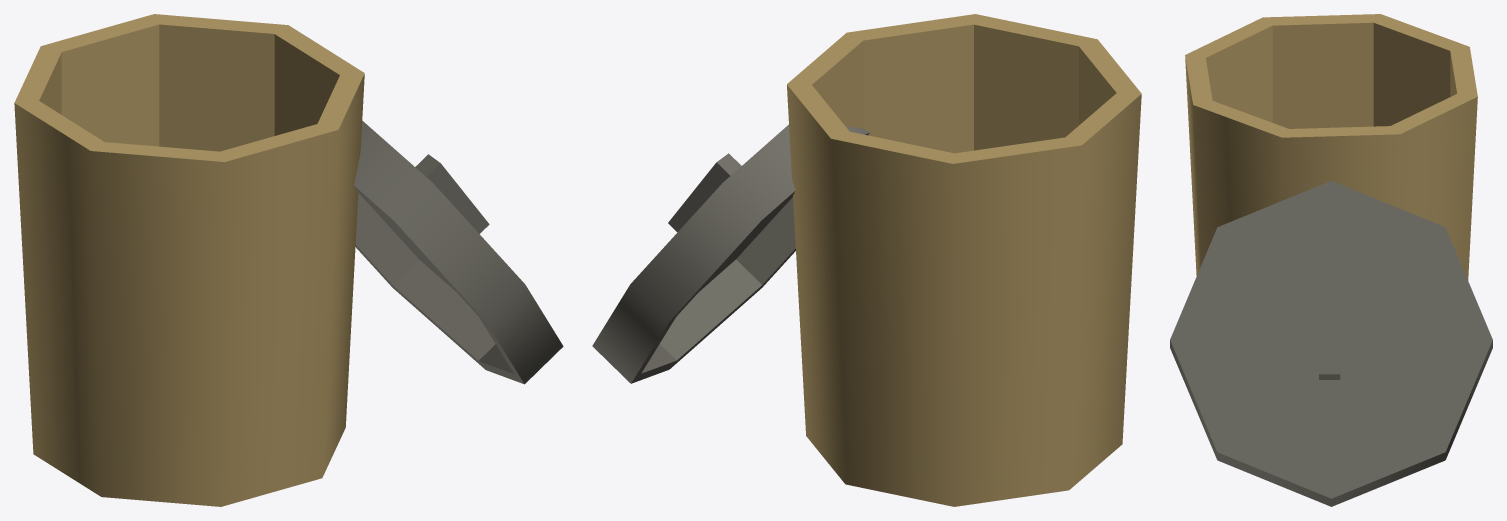
The model's file is SøppelKasse02.FBX.
The picture shows the model from 3 angles, left to right: view 1: azimuth 30°, elevation 25°; view 2: azimuth 150°, elevation 25°; view 3: azimuth 270°, elevation 25°; orthographic projection. The views are drawn at different scales.
Visible parts, largest first — view 1: TrashCan_Body, TrashCan_Top; view 2: TrashCan_Body, TrashCan_Top; view 3: TrashCan_Top, TrashCan_Body.
Boxes of the visible parts, x1=… form: TrashCan_Body: x1=14, y1=14, x2=364, y2=506; TrashCan_Top: x1=354, y1=121, x2=563, y2=384; TrashCan_Body: x1=787, y1=14, x2=1141, y2=506; TrashCan_Top: x1=592, y1=124, x2=869, y2=383; TrashCan_Top: x1=1170, y1=181, x2=1492, y2=506; TrashCan_Body: x1=1185, y1=14, x2=1477, y2=280.
Size of the model in its own units: 252 by 177 by 170.
